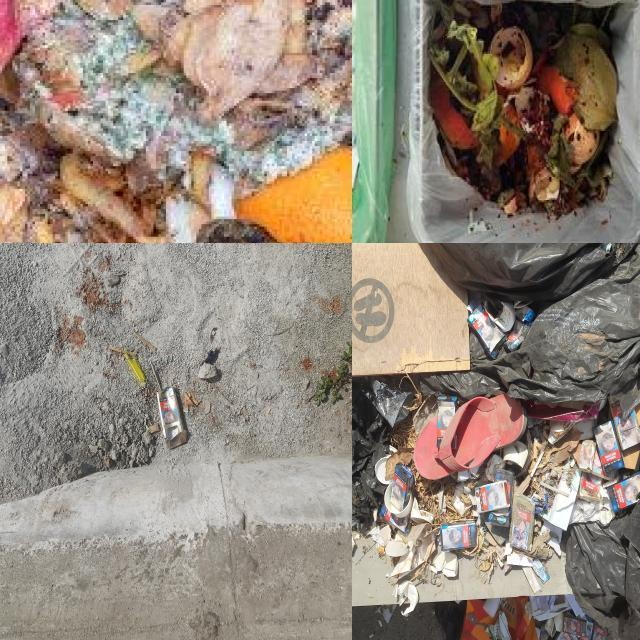Background: (0, 243, 352, 640)
Cig_pack: (157, 388, 188, 449), (593, 421, 624, 477)
Garbage: (352, 243, 640, 640), (416, 0, 622, 243)
Plastic: (124, 353, 146, 386), (274, 315, 276, 316)
